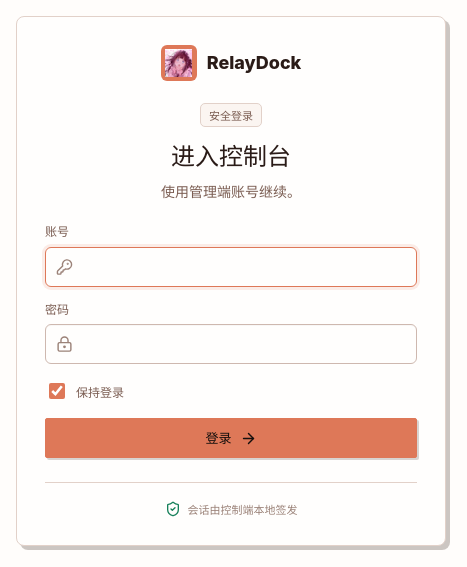
login screen resilience › normalizes a six-digit second factor and can return to password login
This screenshot has width=467, height=567.
Type "admin" into the field labelled "账号".
click(231, 267); type("admin")  # box left=45, top=247, right=417, bottom=287
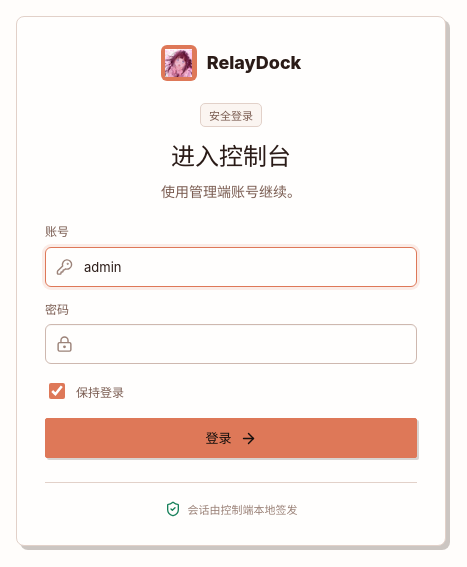
Type "password" into the password field labelled "密码".
click(231, 344); type("password")  # box left=45, top=324, right=417, bottom=364
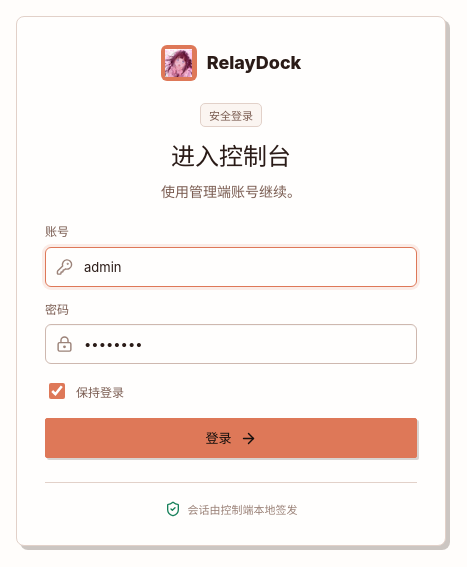
Click the button "登录".
click(231, 438)  # box left=45, top=418, right=417, bottom=458
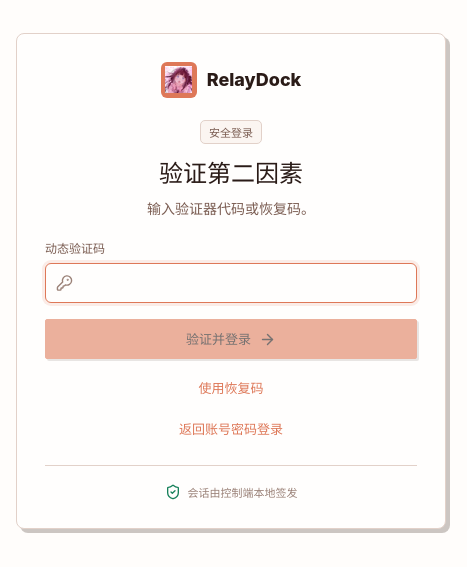
Check: the heading "验证第二因素" is shown, box left=159, top=159, right=303, bottom=188
Type "12a34567" into the field labelled "动态验证码".
click(231, 283); type("12a34567")  # box left=45, top=263, right=417, bottom=303
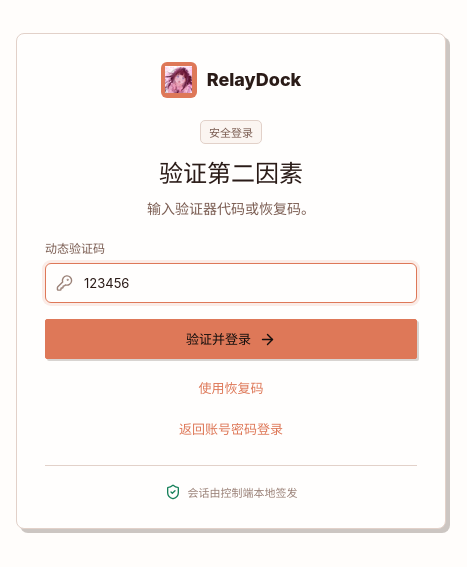
Check: the field labelled "动态验证码" holds "123456", box left=45, top=263, right=417, bottom=303
Check: the button "验证并登录" is enabled, box left=45, top=319, right=417, bottom=359
Click the button "返回账号密码登录".
click(231, 429)  # box left=45, top=416, right=417, bottom=441
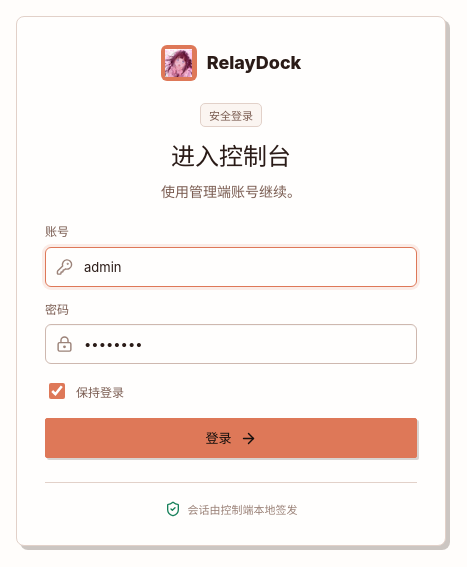
Check: the heading "进入控制台" is shown, box left=171, top=142, right=291, bottom=171
